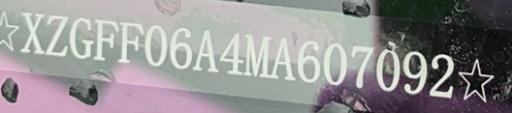letter: (190, 27, 220, 74), (88, 18, 120, 61), (242, 33, 272, 78), (428, 52, 458, 97), (44, 13, 74, 56), (116, 20, 144, 65), (168, 25, 196, 70), (20, 9, 46, 56), (296, 38, 324, 81), (68, 15, 94, 60), (145, 21, 171, 66), (322, 42, 350, 83), (349, 43, 377, 84), (402, 51, 430, 92), (219, 33, 245, 76), (376, 47, 402, 90), (271, 36, 295, 81)
